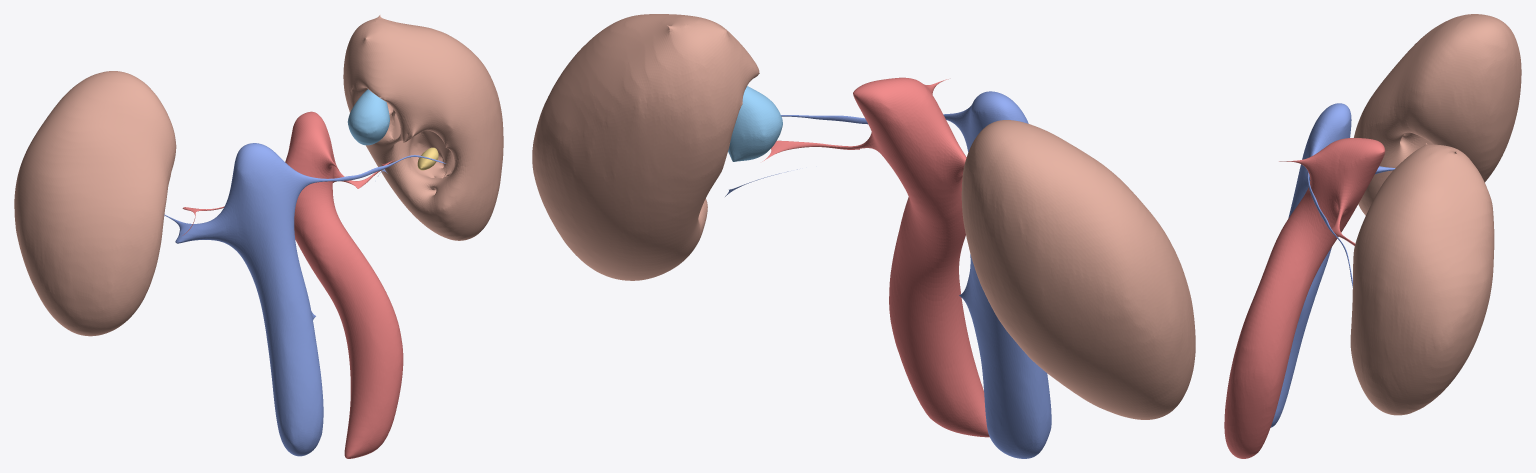
The picture shows the model from 3 angles, left to right: view 1: azimuth 30°, elevation 25°; view 2: azimuth 150°, elevation 25°; view 3: azimuth 270°, elevation 25°; orthographic projection. The views are drawn at different scales.
Visible parts, largest first — view 1: Kidney, Veins, Artery, Cystic; view 2: Kidney, Artery, Veins, Cystic; view 3: Kidney, Artery, Veins.
Part boxes in pixels (x1,y1,x2,y2): Kidney: (14,15,503,336); Veins: (164,143,445,456); Artery: (182,111,403,458); Cystic: (347,89,389,145); Kidney: (532,14,1195,419); Artery: (762,77,989,437); Veins: (725,91,1051,458); Cystic: (728,86,782,161); Kidney: (1350,14,1521,415); Artery: (1224,138,1385,458); Veins: (1270,103,1395,427).
Size of the model in its own units: 220 by 153 by 113.
